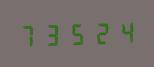five: (64, 20, 86, 46)
four: (110, 18, 132, 45)
seven: (18, 22, 40, 48)
three: (41, 21, 63, 47)
two: (87, 19, 109, 45)
